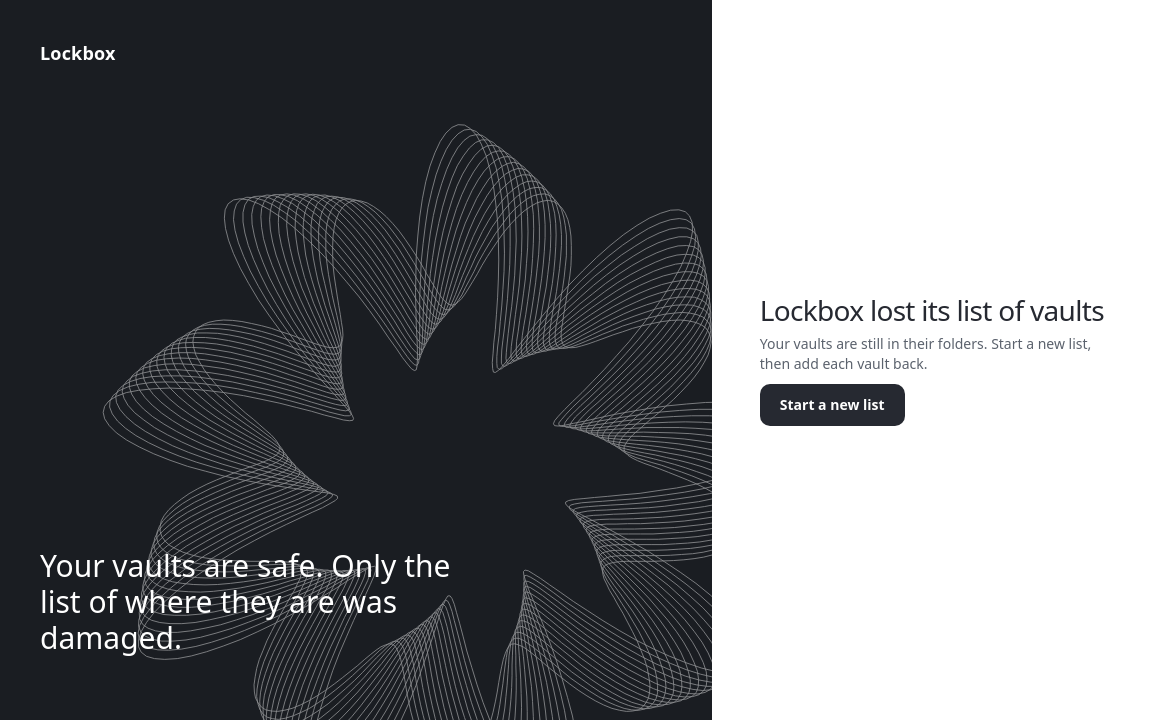
Test: the_vaults_are_added_back_from_the_first_screen_after_a_new_list
Click the button "Start a new list" at (832, 405), box [760,384,905,426]
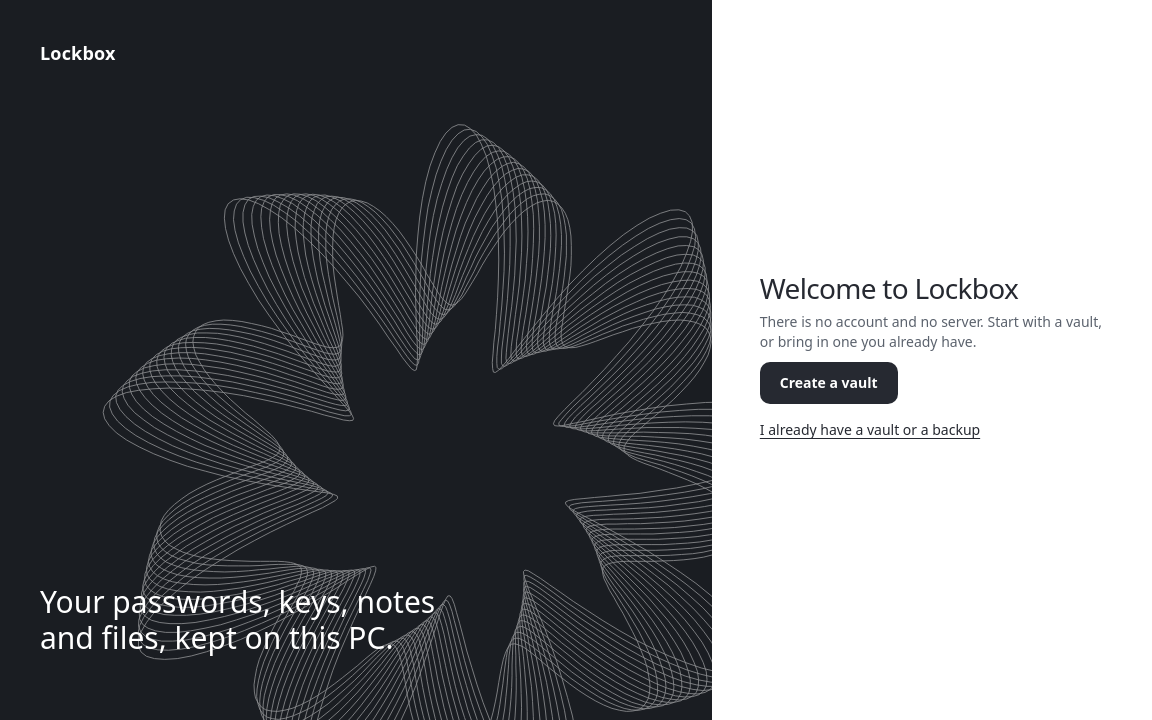
Expected: the heading "Welcome to Lockbox" is shown, [760,269,1018,307]
Click the button "I already have a vault or a backup" at (870, 430), box [752,412,988,448]
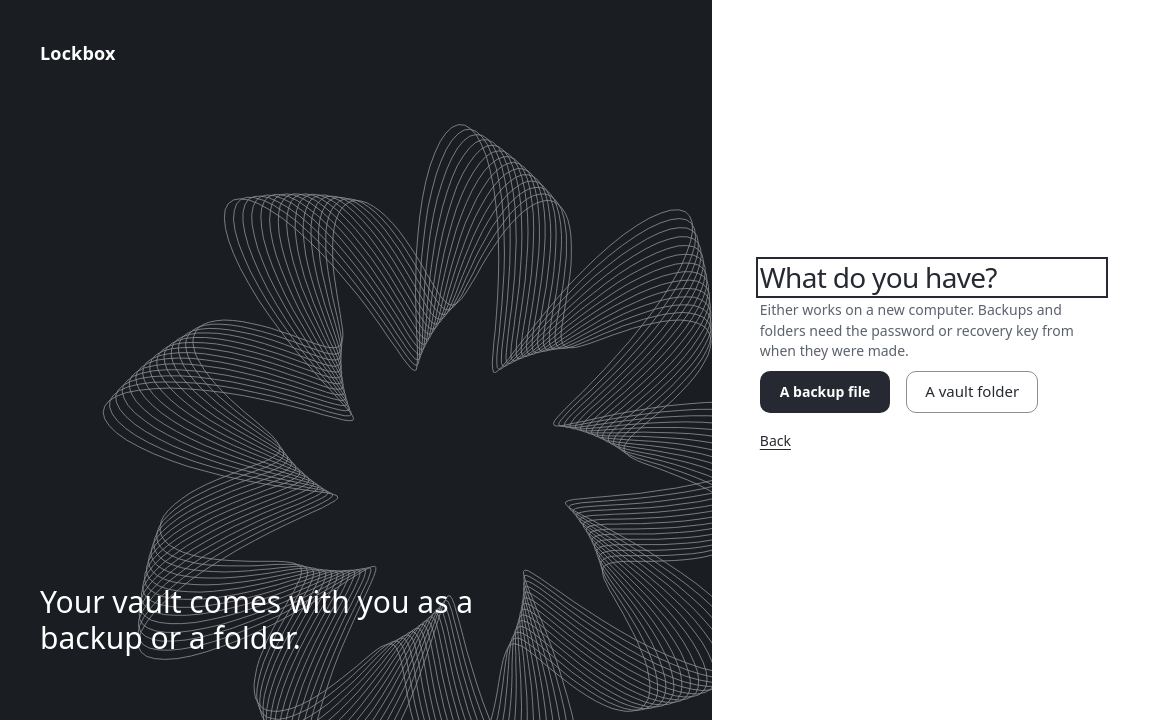
Expected: the heading "What do you have?" is shown, [760,258,997,296]
Click the button "A vault folder" at (972, 392), box [906,371,1038,413]
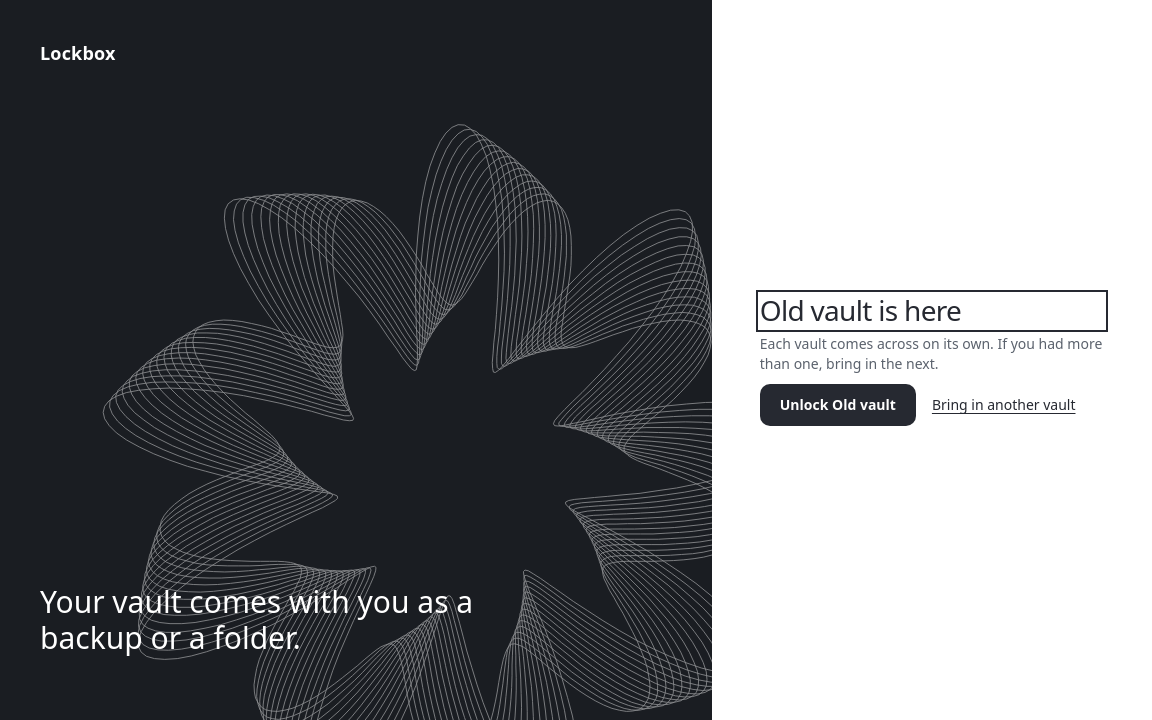
Expected: the heading "Old vault is here" is shown, [760,291,961,329]
Click the button "Unlock Old vault" at (838, 405), box [760,384,916,426]
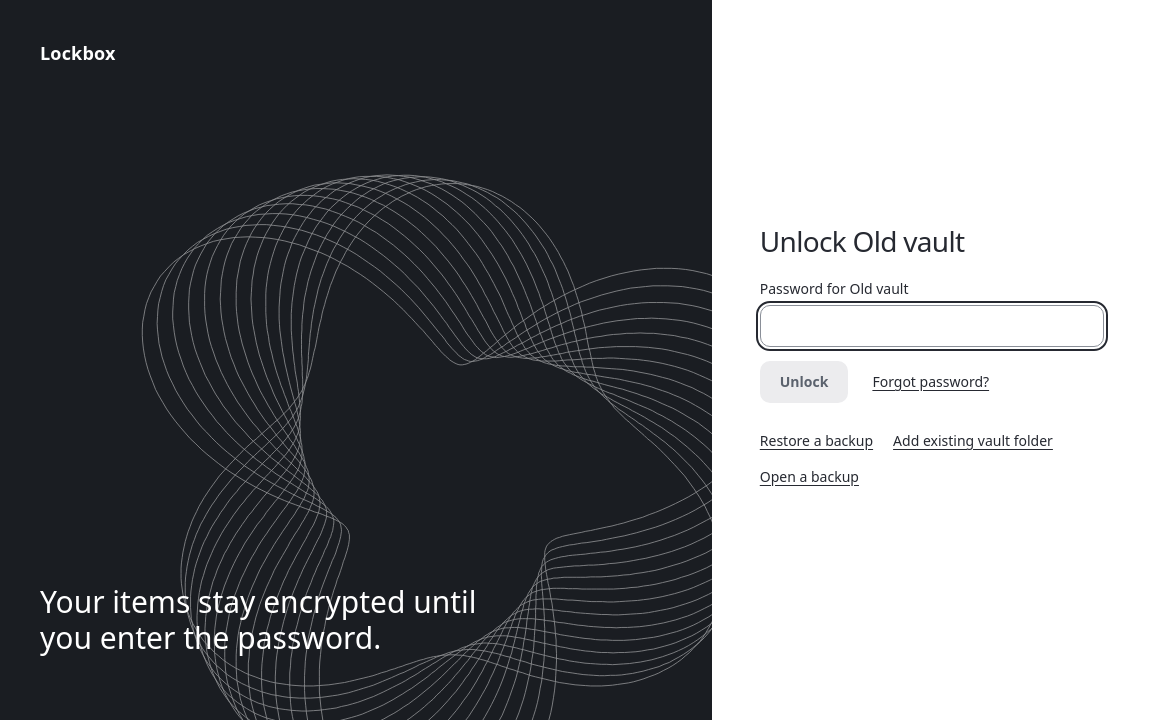
Expected: the heading "Unlock Old vault" is shown, [760,222,964,260]
